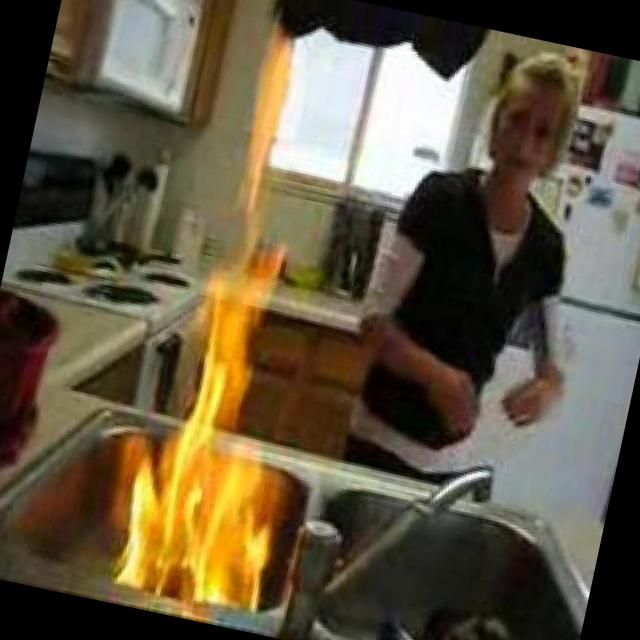Fire: (105, 225, 328, 618), (226, 24, 308, 210)
